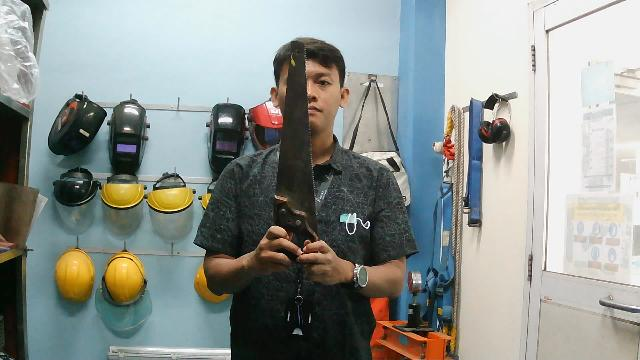gergaji_kayu: (272, 41, 326, 265)
